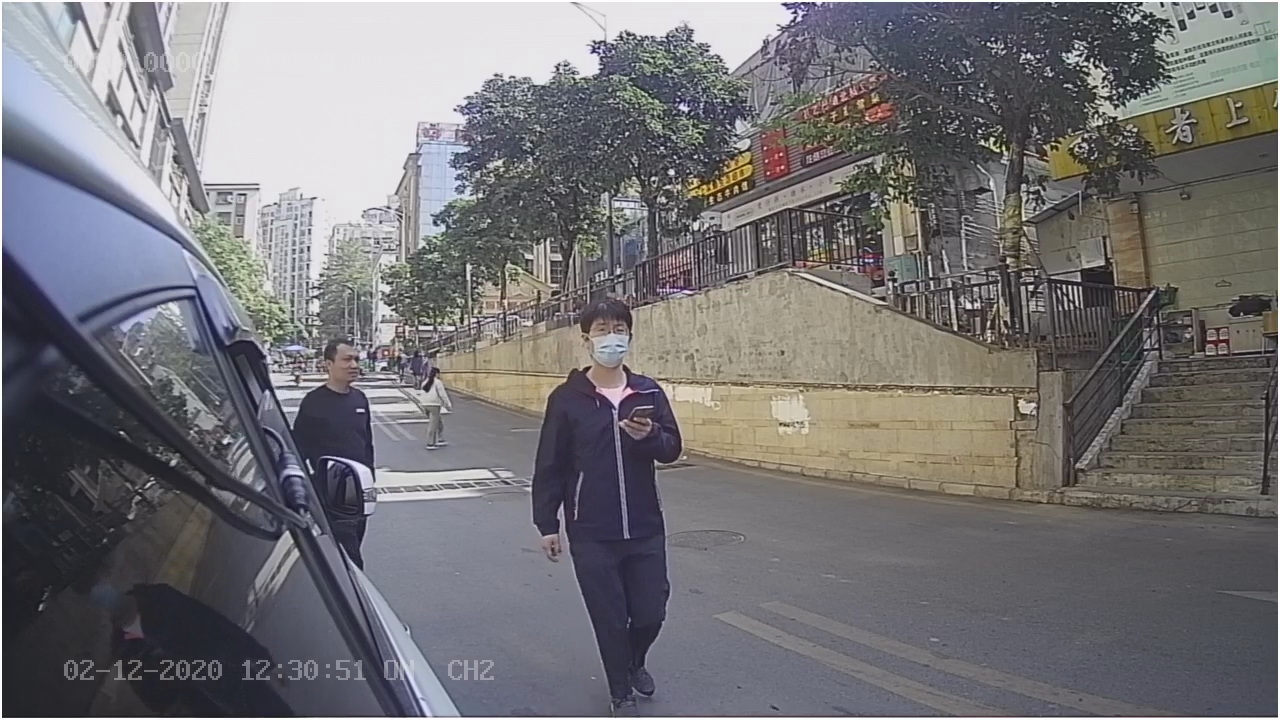person: (528, 295, 696, 559), (292, 337, 388, 440)
